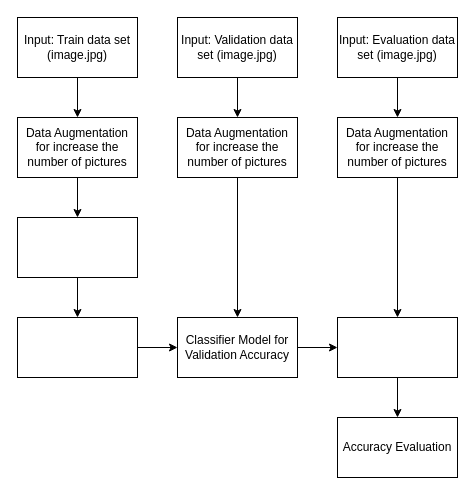
Some shapes in this 475 by 495 pixel diagram are drawn without their labels. The centre of each missing label's shape, as x and y in pixels:
Classifier Model for Predict Unseen Data Set: the point at 397,347
Feature Classify label of image (explosive , none-explosive): the point at 77,247
Model Traning Algorithm: the point at 77,347
